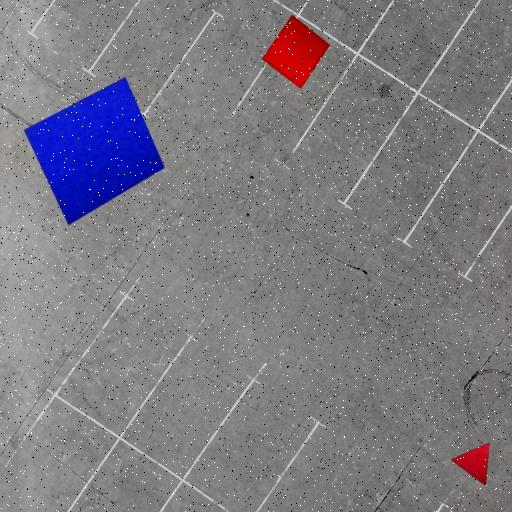BLUE_SQUARE: (23, 76, 166, 226)
RED_SQUARE: (262, 14, 330, 90)
